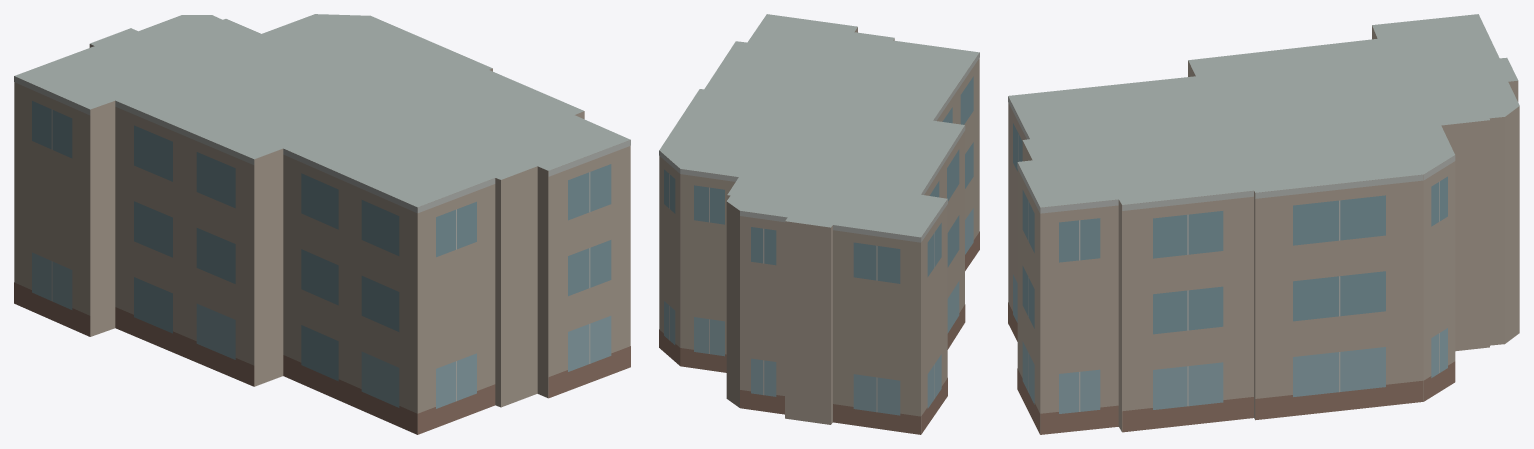
File: survey-upis-33044693.glb
3 views of the same model, side by side, from view 1: azimuth 30°, elevation 25°; view 2: azimuth 150°, elevation 25°; view 3: azimuth 270°, elevation 25° (orthographic). The views are drawn at different scales.
Parts seen in each view (by area): view 1: survey-upis-33044693.tmp; view 2: survey-upis-33044693.tmp; view 3: survey-upis-33044693.tmp.
Part boxes in pixels (x1,y1,x2,y2): survey-upis-33044693.tmp: [14, 14, 630, 434]; survey-upis-33044693.tmp: [659, 14, 979, 434]; survey-upis-33044693.tmp: [1008, 14, 1519, 434].
Size of the model in its own units: 16.82 by 9.2 by 18.78.
